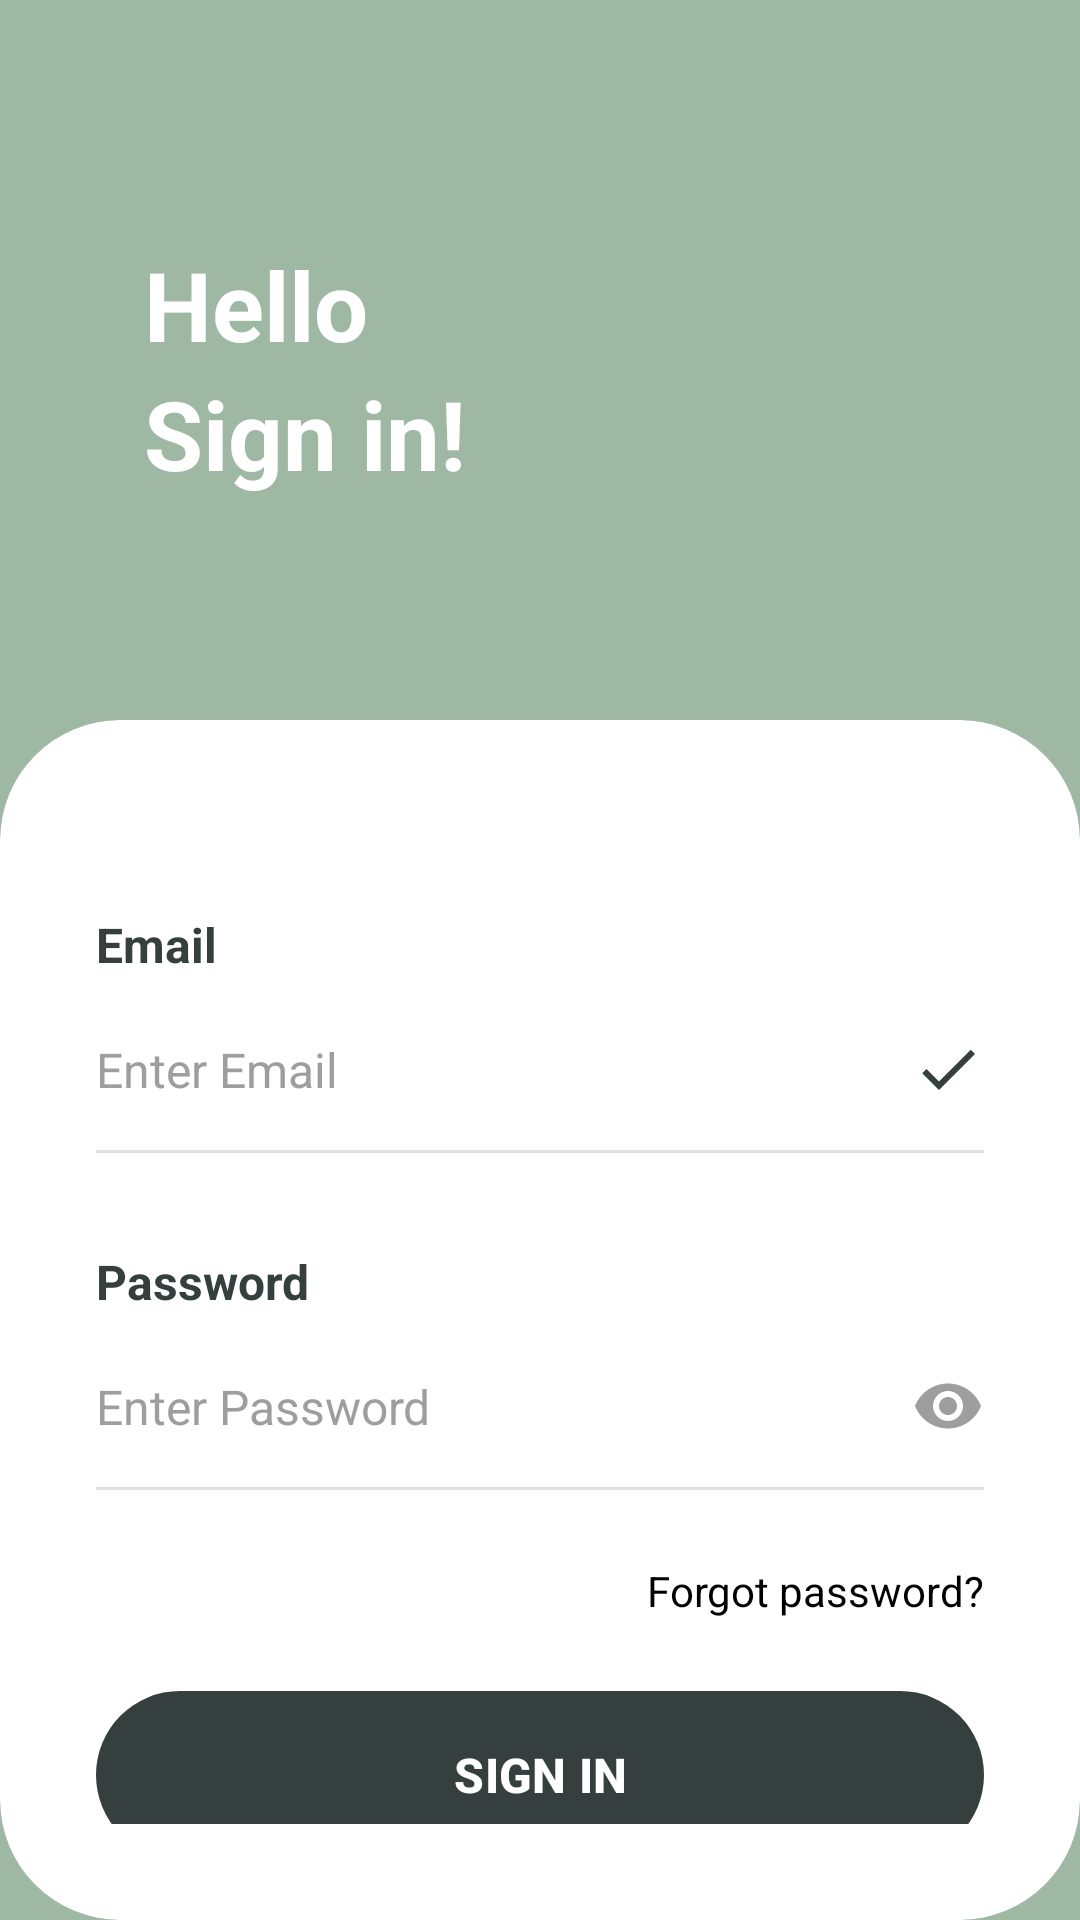

Locate icon controls on the screen. Image size 1080w x 1920h, boxes as region(x1, y1, x2, y2).
check: region(922, 1050, 975, 1090)
visibility: region(915, 1383, 981, 1429)
